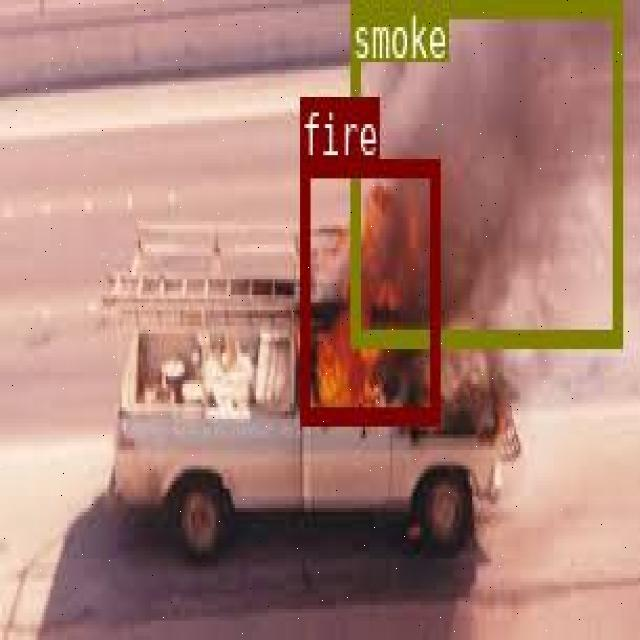fire: (299, 159, 437, 422)
smoke: (349, 0, 619, 341)
